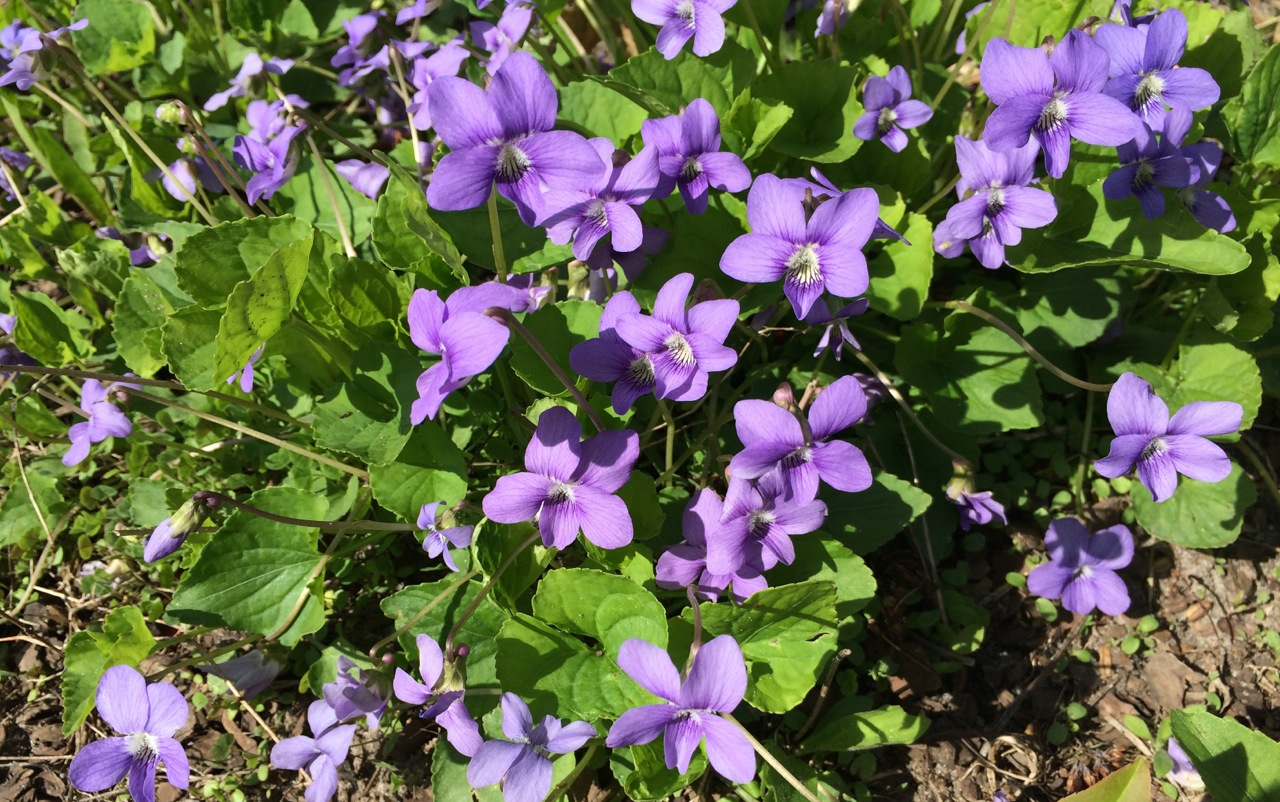violet: (388, 59, 617, 226), (271, 642, 456, 802), (607, 635, 775, 790), (958, 32, 1130, 167), (509, 409, 646, 565), (1092, 362, 1239, 505), (651, 473, 820, 595), (918, 133, 1058, 276), (64, 669, 213, 801), (734, 172, 873, 312), (376, 271, 518, 402), (725, 385, 876, 500), (1083, 19, 1212, 145), (1026, 507, 1140, 624), (473, 693, 591, 802), (642, 109, 738, 207), (221, 122, 316, 206), (411, 500, 467, 567)
